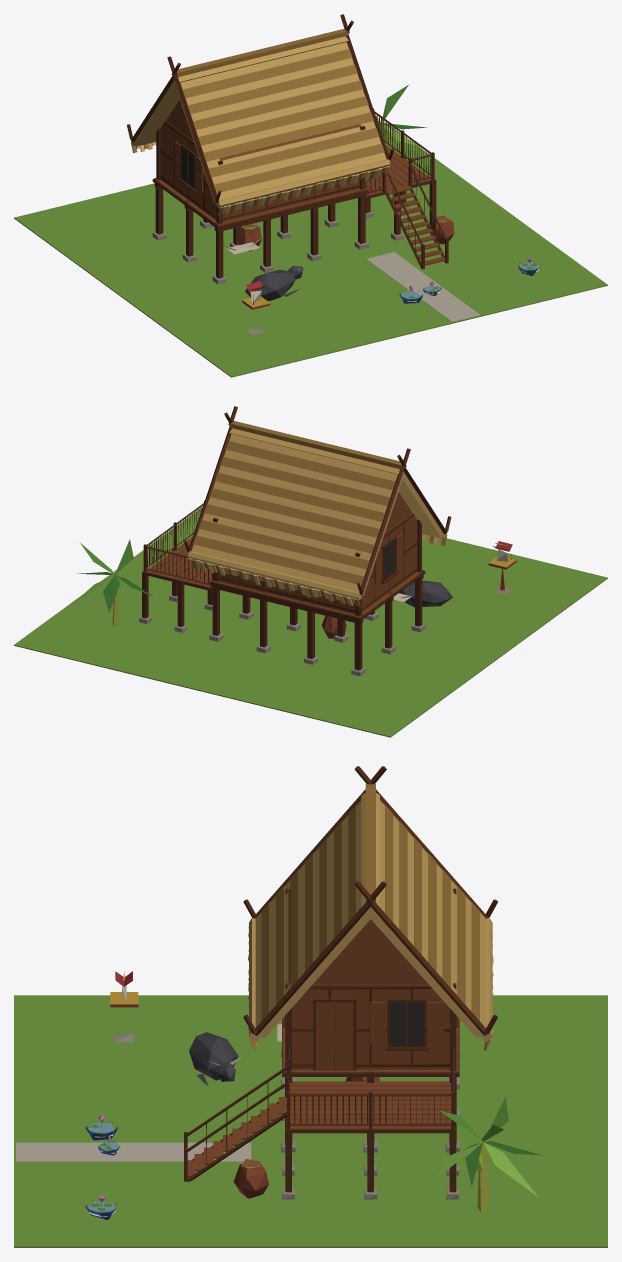
The model's file is home_2.glb.
3 views of the same model, one above another, from view 1: azimuth 30°, elevation 25°; view 2: azimuth 150°, elevation 25°; view 3: azimuth 270°, elevation 25° (orthographic). The views are drawn at different scales.
Visible parts, largest first — view 1: body; view 2: body; view 3: body, windows.
Boxes of the visible parts, x1,y1,x2,y2 form: body: (14, 14, 607, 377); body: (14, 406, 607, 737); body: (14, 766, 607, 1247); windows: (390, 1002, 423, 1045).
Size of the model in its own units: 15.9 by 8.31 by 15.9.
